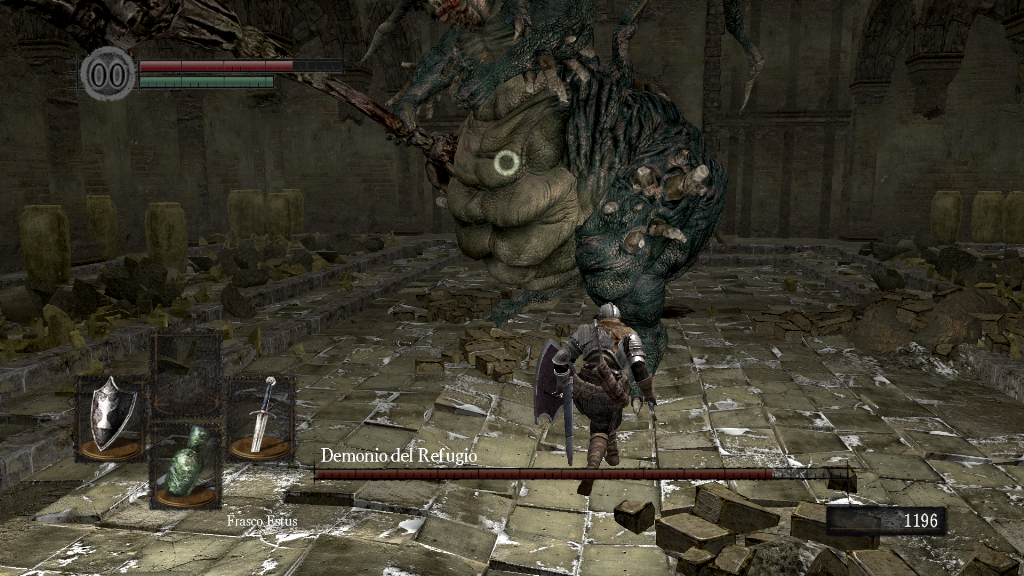asylumDemon: (347, 1, 770, 383)
bossHP: (314, 469, 847, 479)
health: (138, 58, 343, 71)
humanity: (80, 45, 136, 102)
player: (533, 300, 660, 495)
souls: (825, 506, 945, 536)
stamina: (138, 74, 274, 88)
